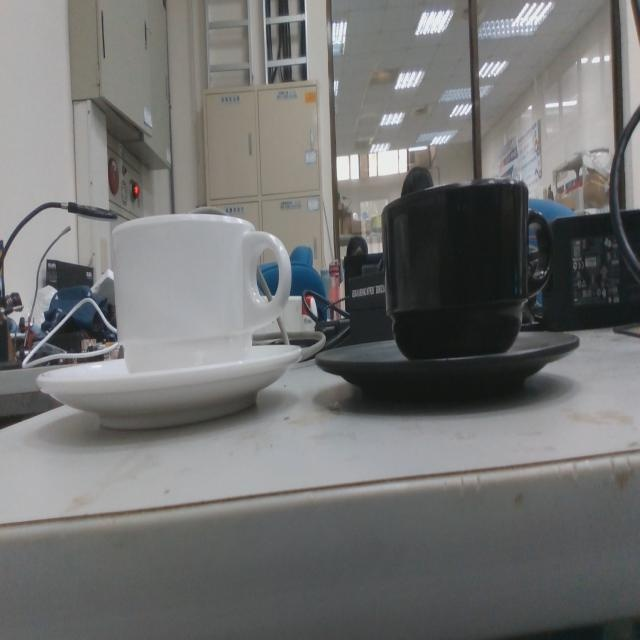black: (312, 173, 583, 412)
white: (35, 210, 302, 434)
